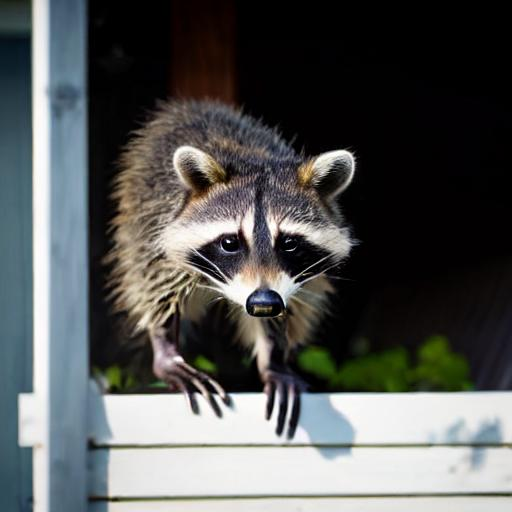raccoon: (101, 88, 372, 375)
